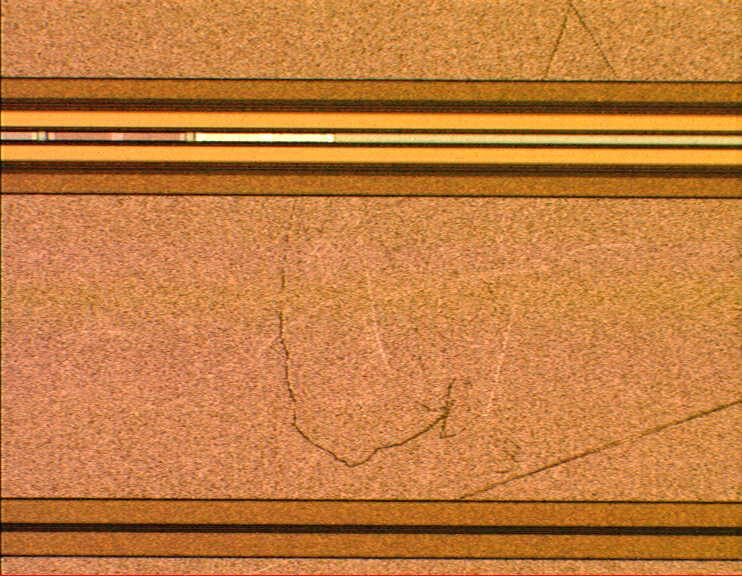SCRATCH: (267, 1, 742, 576)
